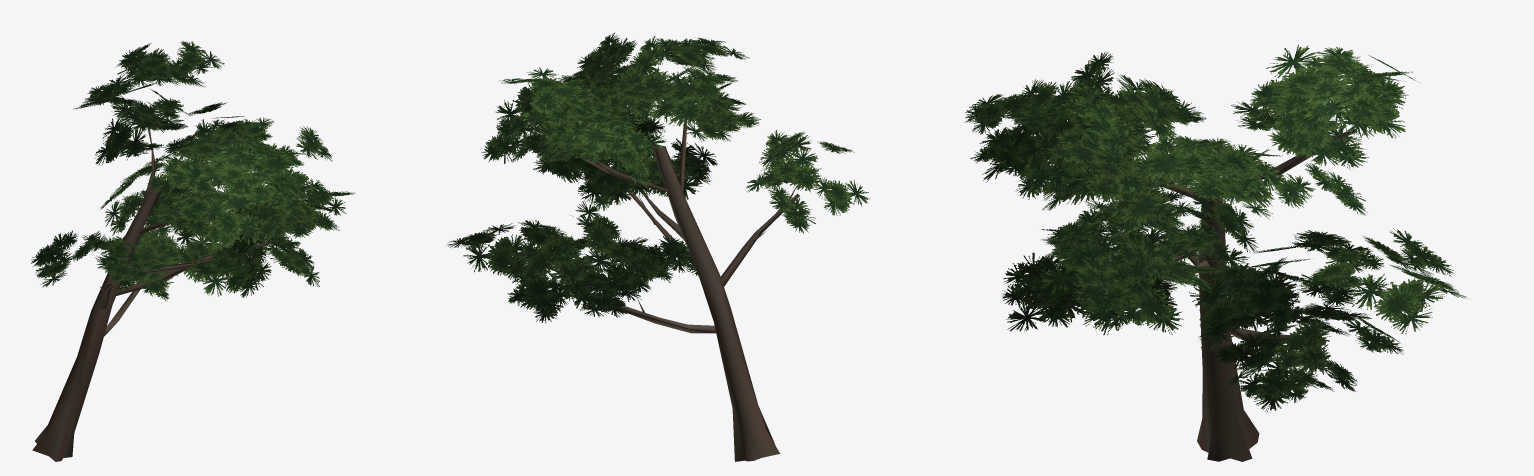
File: overview.glb
3 renders of one model, left to right at view 1: azimuth 30°, elevation 25°; view 2: azimuth 150°, elevation 25°; view 3: azimuth 270°, elevation 25°, orthographic. The views are drawn at different scales.
Visible parts, largest first — view 1: Native forest foliage, Native forest structure; view 2: Native forest foliage, Native forest structure; view 3: Native forest foliage, Native forest structure.
Part boxes in pixels (bbox=[...]): Native forest foliage: bbox=[31, 40, 355, 301]; Native forest structure: bbox=[32, 127, 267, 461]; Native forest foliage: bbox=[446, 32, 869, 322]; Native forest structure: bbox=[556, 120, 799, 461]; Native forest foliage: bbox=[964, 44, 1466, 413]; Native forest structure: bbox=[1150, 128, 1357, 461].
Bounding box in the file's own units: 3.24 × 3 × 3.13.
2 materials, 1 textured.
